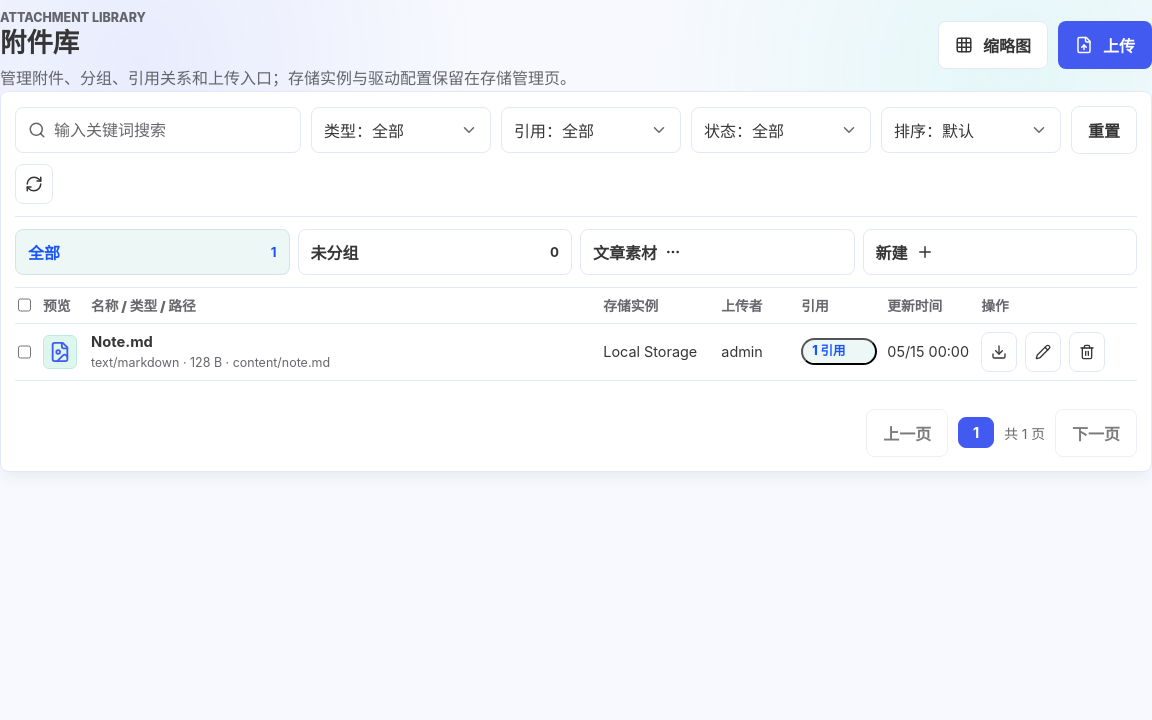
Test: StudioAttachmentsPage › opens the edit dialog when clicking an attachment row
Click the text "Note.md": (122, 342) 91,333 -> 153,351
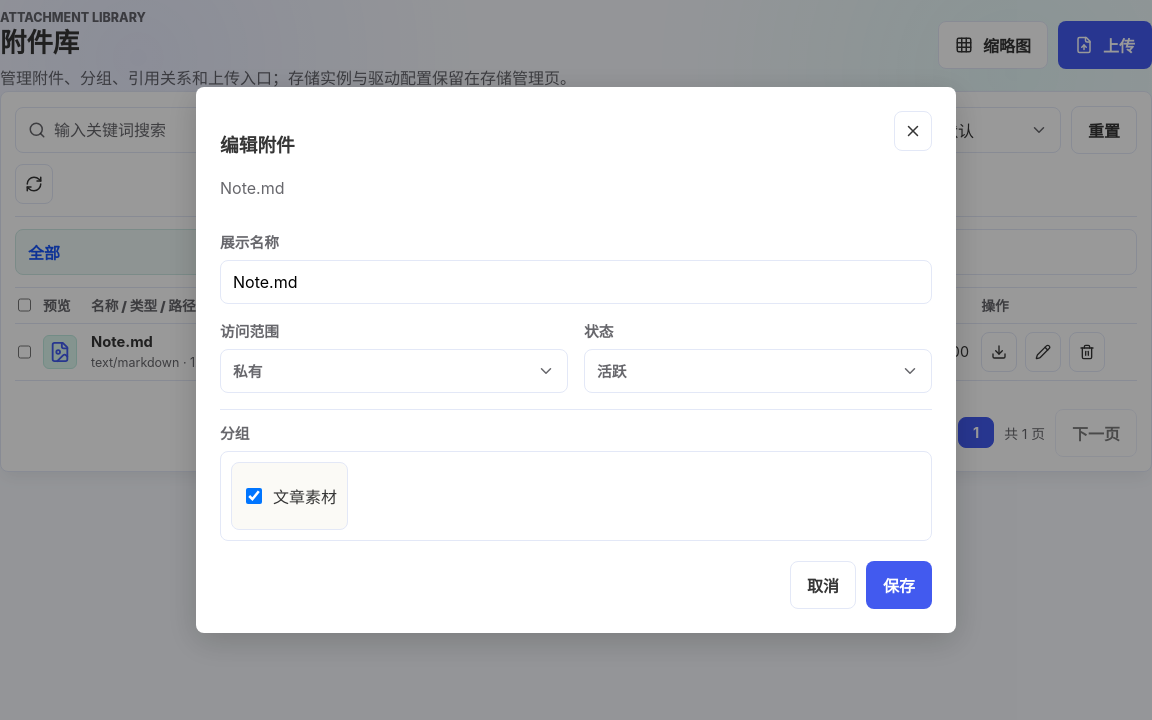
Result: the dialog is shown at 196,87 -> 956,633
Result: the heading "编辑附件" is shown at 220,130 -> 295,157
